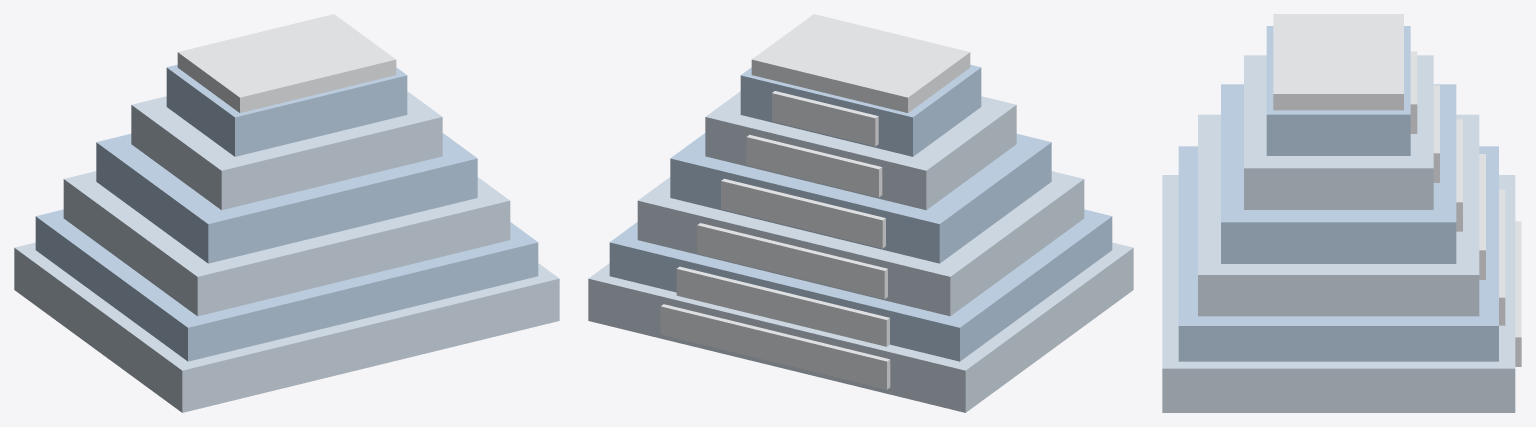
Rendered from baile_azul_saia.glb.
The picture shows the model from 3 angles, left to right: view 1: azimuth 30°, elevation 25°; view 2: azimuth 150°, elevation 25°; view 3: azimuth 270°, elevation 25°; orthographic projection. The views are drawn at different scales.
Parts seen in each view (by area): view 1: baile_azul_saia; view 2: baile_azul_saia; view 3: baile_azul_saia.
Boxes of the visible parts, left/top/right/bottom form: baile_azul_saia: left=14, top=14, right=559, bottom=412; baile_azul_saia: left=588, top=14, right=1133, bottom=412; baile_azul_saia: left=1162, top=14, right=1521, bottom=412.
Bounding box in the file's own units: 1.4 × 0.885 × 1.1.
